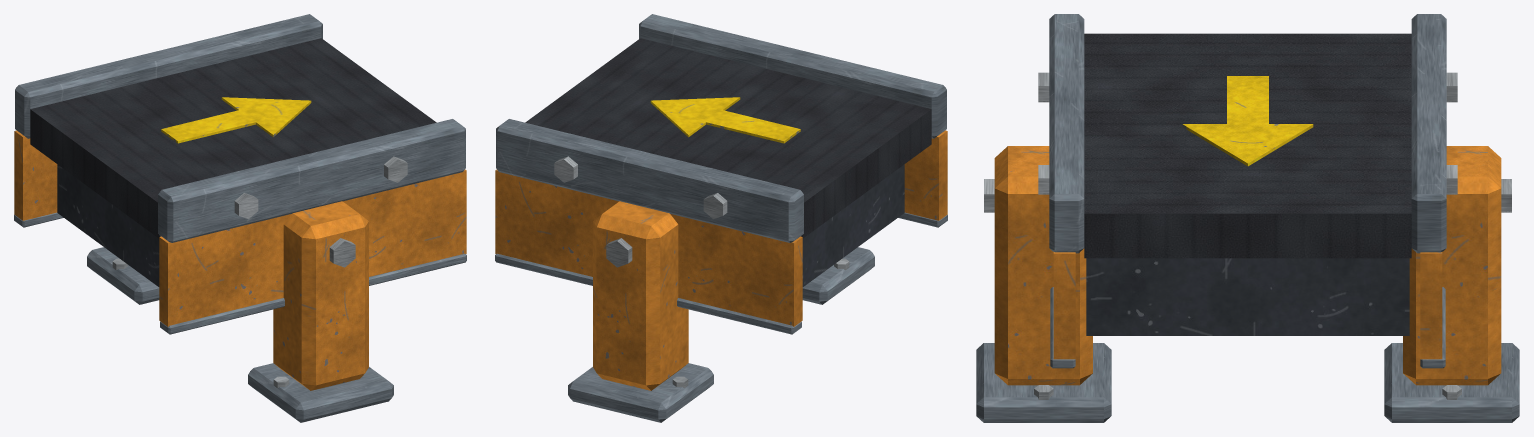
The model's file is conveyor_segment.glb.
3 views of the same model, side by side, from view 1: azimuth 30°, elevation 25°; view 2: azimuth 150°, elevation 25°; view 3: azimuth 270°, elevation 25° (orthographic). The views are drawn at different scales.
Visible parts, largest first — view 1: ConveyorSegment_Orange, ConveyorSegment_Belt, ConveyorSegment_SteelGrey, ConveyorSegment_DarkGrey, ConveyorSegment_Yellow, ConveyorSegment_SteelLight; view 2: ConveyorSegment_Orange, ConveyorSegment_Belt, ConveyorSegment_SteelGrey, ConveyorSegment_DarkGrey, ConveyorSegment_Yellow, ConveyorSegment_SteelLight; view 3: ConveyorSegment_Belt, ConveyorSegment_Orange, ConveyorSegment_SteelGrey, ConveyorSegment_DarkGrey, ConveyorSegment_Yellow, ConveyorSegment_SteelLight.
Boxes of the visible parts, x1,y1,x2,y2 form: ConveyorSegment_Orange: (14,130,466,390); ConveyorSegment_Belt: (30,38,436,238); ConveyorSegment_SteelGrey: (14,14,466,422); ConveyorSegment_DarkGrey: (57,164,159,286); ConveyorSegment_Yellow: (161,97,311,143); ConveyorSegment_SteelLight: (112,156,407,388); ConveyorSegment_Orange: (495,130,947,390); ConveyorSegment_Belt: (525,38,931,238); ConveyorSegment_SteelGrey: (495,14,947,422); ConveyorSegment_DarkGrey: (802,164,904,286); ConveyorSegment_Yellow: (650,97,800,143); ConveyorSegment_SteelLight: (554,156,849,388); ConveyorSegment_Belt: (1084,33,1411,258); ConveyorSegment_Orange: (994,146,1501,385); ConveyorSegment_SteelGrey: (976,14,1519,422); ConveyorSegment_DarkGrey: (1086,258,1409,335); ConveyorSegment_Yellow: (1182,76,1313,166); ConveyorSegment_SteelLight: (984,72,1511,399).
Size of the model in its own units: 4 by 2.95 by 4.98.
6 materials, 6 textured.
